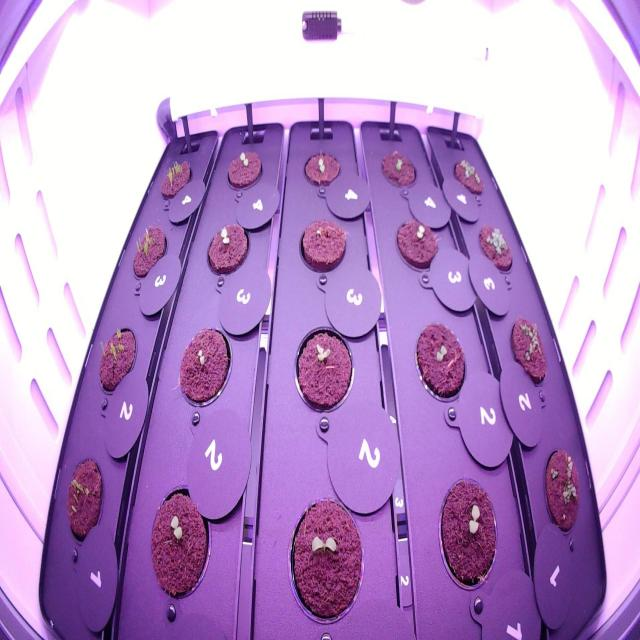germination: (284, 487, 368, 630), (143, 474, 214, 609), (432, 465, 500, 600), (287, 317, 358, 417), (409, 311, 471, 413), (174, 317, 236, 414), (538, 438, 585, 545), (61, 448, 108, 552), (506, 303, 552, 392), (292, 209, 350, 276), (93, 319, 139, 403), (201, 213, 253, 286), (390, 213, 444, 279), (129, 215, 172, 292), (472, 212, 516, 284), (294, 139, 346, 194), (218, 142, 268, 194), (374, 144, 421, 196), (154, 152, 196, 210), (448, 151, 489, 203)
